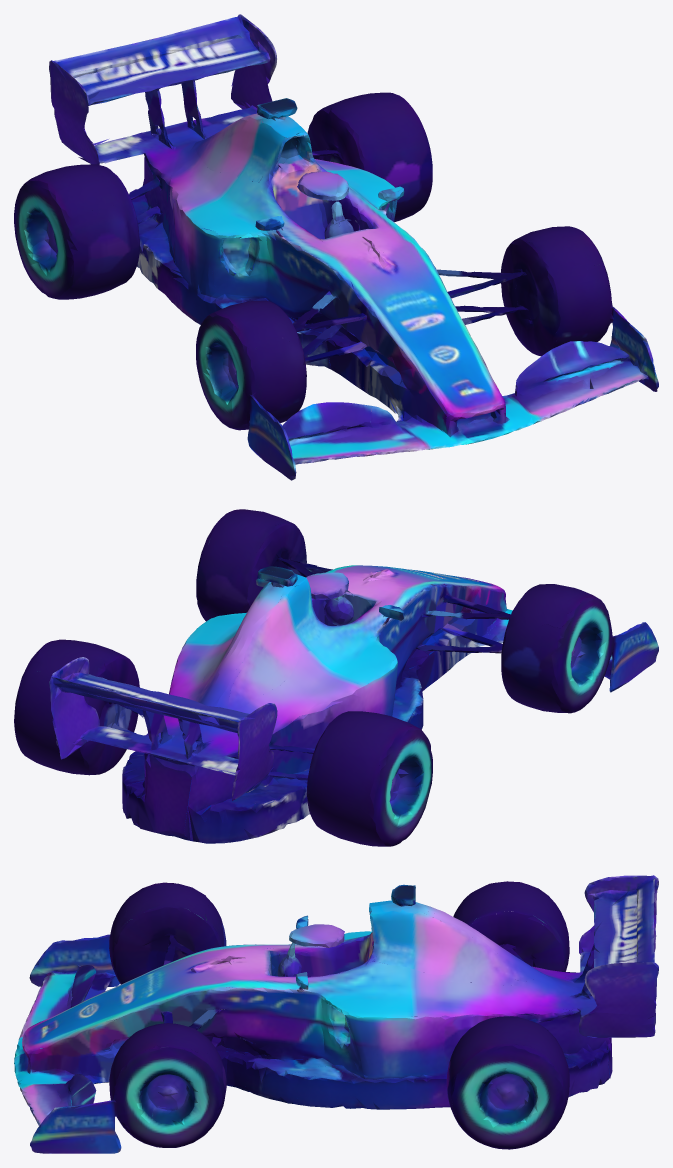
The model's file is formulae2.glb.
The picture shows the model from 3 angles, top to bottom: view 1: azimuth 30°, elevation 25°; view 2: azimuth 150°, elevation 25°; view 3: azimuth 270°, elevation 25°; orthographic projection. The views are drawn at different scales.
Visible parts, largest first — view 1: body, panel_trunk, panel_bumper_f, wheel_front_R, wheel_front_L, wheel_rear_L, panel_hood, wheel_rear_R, panel_roof, panel_bumper_r, panel_door_L; view 2: panel_trunk, body, wheel_front_L, wheel_rear_L, panel_bumper_r, panel_bumper_f, wheel_rear_R, wheel_front_R, panel_hood, panel_roof, panel_door_L; view 3: body, panel_trunk, wheel_rear_R, wheel_front_R, wheel_front_L, panel_hood, wheel_rear_L, panel_roof, panel_bumper_r, panel_door_R, panel_bumper_f.
Part boxes in pixels (<box>): body: <box>94,105,617,462</box>; panel_trunk: <box>25,14,428,324</box>; panel_bumper_f: <box>203,235,526,428</box>; wheel_front_R: <box>482,232,658,407</box>; wheel_front_L: <box>196,315,391,480</box>; wheel_rear_L: <box>14,180,221,324</box>; panel_hood: <box>199,226,601,351</box>; wheel_rear_R: <box>307,110,432,222</box>; panel_roof: <box>255,98,404,231</box>; panel_bumper_r: <box>20,74,338,251</box>; panel_door_L: <box>200,228,288,317</box>; panel_trunk: <box>24,578,423,842</box>; body: <box>81,565,612,843</box>; wheel_front_L: <box>411,595,658,716</box>; wheel_rear_L: <box>295,726,432,846</box>; panel_bumper_r: <box>56,689,414,839</box>; panel_bumper_f: <box>253,547,573,691</box>; wheel_rear_R: <box>14,656,142,775</box>; wheel_front_R: <box>196,513,322,621</box>; panel_hood: <box>197,509,601,683</box>; panel_roof: <box>256,566,404,626</box>; panel_door_L: <box>382,646,423,721</box>; body: <box>14,902,610,1124</box>; panel_trunk: <box>370,875,658,1078</box>; wheel_rear_R: <box>296,1030,569,1149</box>; wheel_front_R: <box>28,1037,327,1153</box>; wheel_front_L: <box>28,882,226,1015</box>; panel_hood: <box>123,882,268,1082</box>; wheel_rear_L: <box>453,896,569,971</box>; panel_roof: <box>279,884,419,989</box>; panel_bumper_r: <box>487,916,656,1088</box>; panel_door_R: <box>267,1004,425,1079</box>; panel_bumper_f: <box>32,920,269,1079</box>.
Size of the model in its own units: 2.48 by 1.23 by 4.
1 material, 1 textured.
